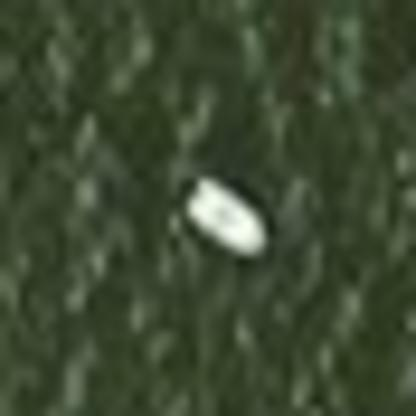ship: (169, 162, 287, 269)
